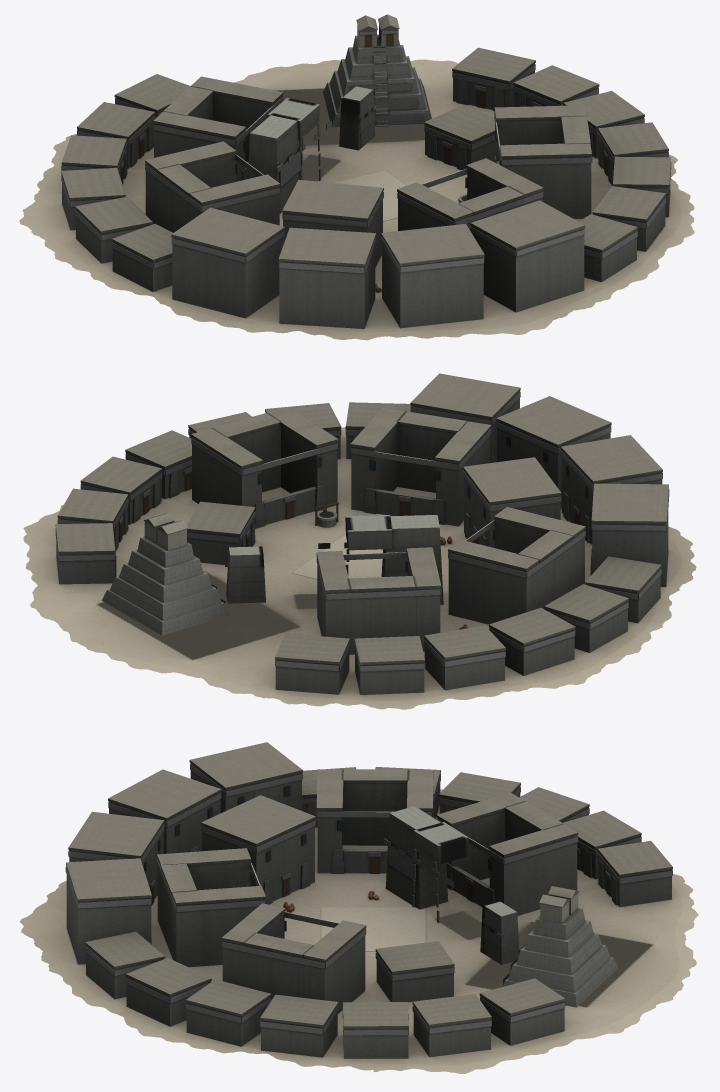
The model's file is kingdoms-town-big-b-americas.glb.
3 renders of one model, top to bottom at view 1: azimuth 30°, elevation 25°; view 2: azimuth 150°, elevation 25°; view 3: azimuth 270°, elevation 25°, orthographic.
Parts seen in each view (by area): view 1: LOD0; view 2: LOD0; view 3: LOD0.
Boxes of the visible parts, left/top/right/bottom form: LOD0: left=19, top=14, right=694, bottom=340; LOD0: left=23, top=373, right=696, bottom=709; LOD0: left=20, top=742, right=698, bottom=1073.
Size of what is drawn, in the model's own units: 7.95 by 1.15 by 7.97.
3 materials, 3 textured.
